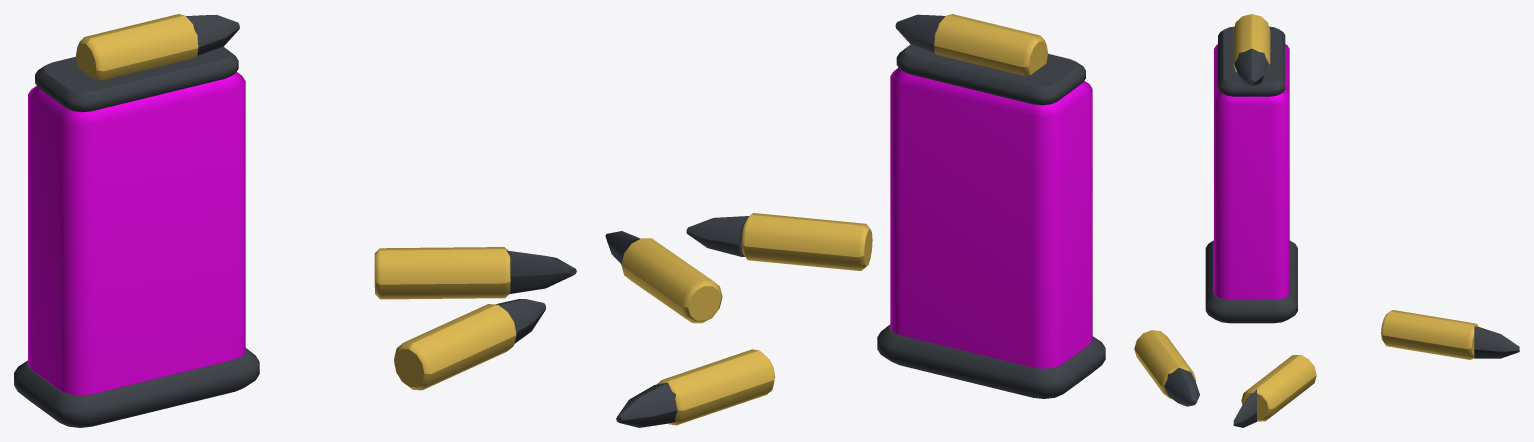
File: objet_chargeur_sniper.glb
3 renders of one model, left to right at view 1: azimuth 30°, elevation 25°; view 2: azimuth 150°, elevation 25°; view 3: azimuth 270°, elevation 25°, orthographic. The views are drawn at different scales.
Parts seen in each view (by area): view 1: chargeur_teinte.006, chargeur_teinte_sombre.006, chargeur_laiton.006; view 2: chargeur_teinte.006, chargeur_laiton.006, chargeur_teinte_sombre.006; view 3: chargeur_teinte.006, chargeur_teinte_sombre.006, chargeur_laiton.006.
Part boxes in pixels (box(x1,y1,x2,y2)): chargeur_teinte.006: box(28, 72, 245, 395); chargeur_teinte_sombre.006: box(14, 14, 576, 427); chargeur_laiton.006: box(76, 14, 516, 390); chargeur_teinte.006: box(890, 68, 1092, 368); chargeur_laiton.006: box(621, 14, 1047, 425); chargeur_teinte_sombre.006: box(605, 14, 1105, 427); chargeur_teinte.006: box(1214, 44, 1289, 299); chargeur_teinte_sombre.006: box(1164, 26, 1519, 427); chargeur_laiton.006: box(1134, 14, 1478, 421).
Bounding box in the file's own units: 0.2612 × 0.171 × 0.2291.
